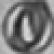correct: (2, 1, 54, 54)
